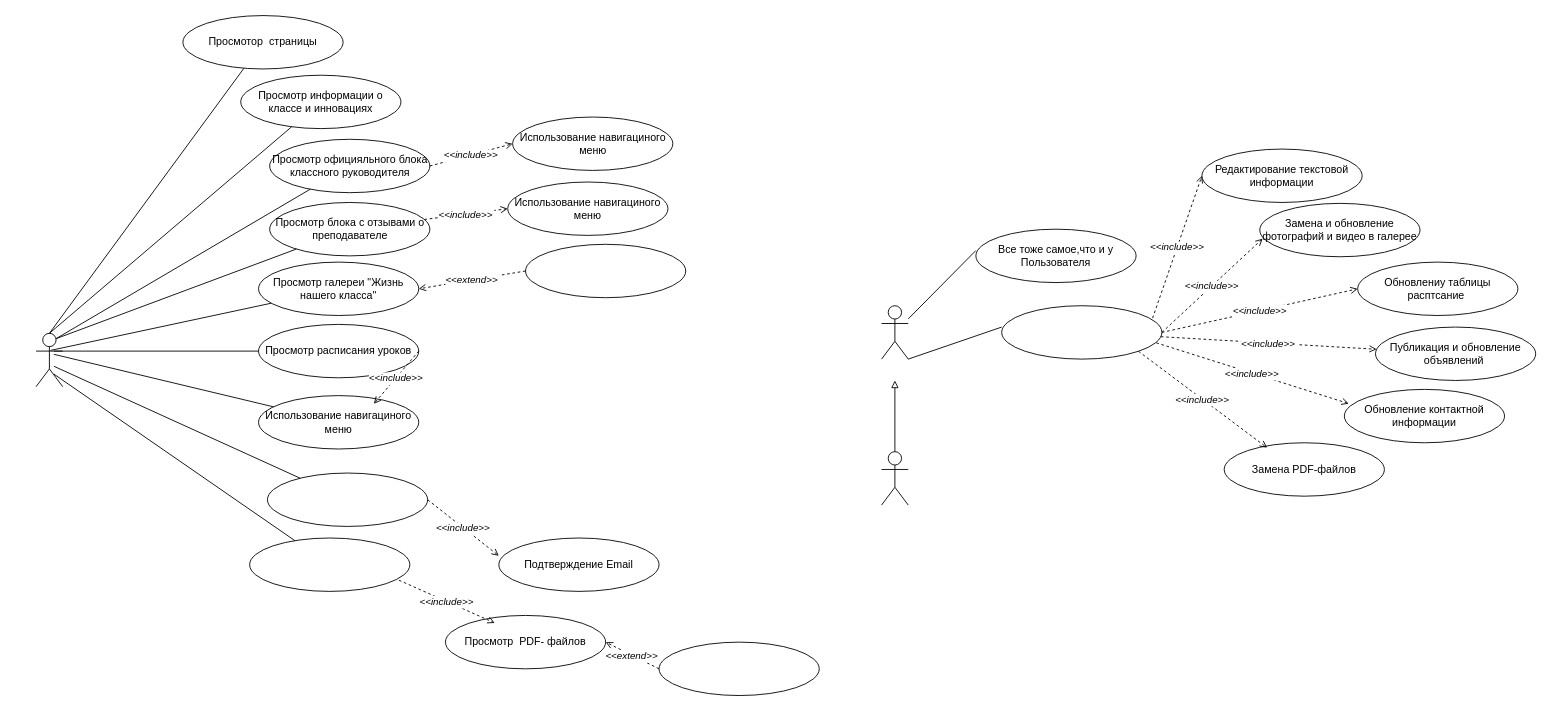
The diagram is 1552 pixels wide and 711 high, and some of its shapes have lost their labels. Here are the shapes that lost their labels. From the top down, the box of each, then its label:
(525, 243, 686, 298): Скачивание фотографий и видео
(881, 305, 908, 359): Преподаватель
(1001, 305, 1162, 359): Редактирование содержимого сайта
(35, 332, 63, 387): Пользователь
(881, 451, 908, 505): Администратор
(267, 472, 428, 526): Просмотр место положения школы
(249, 537, 410, 591): Просмотр ленты объявлений
(658, 641, 819, 696): Скачивание PDF
